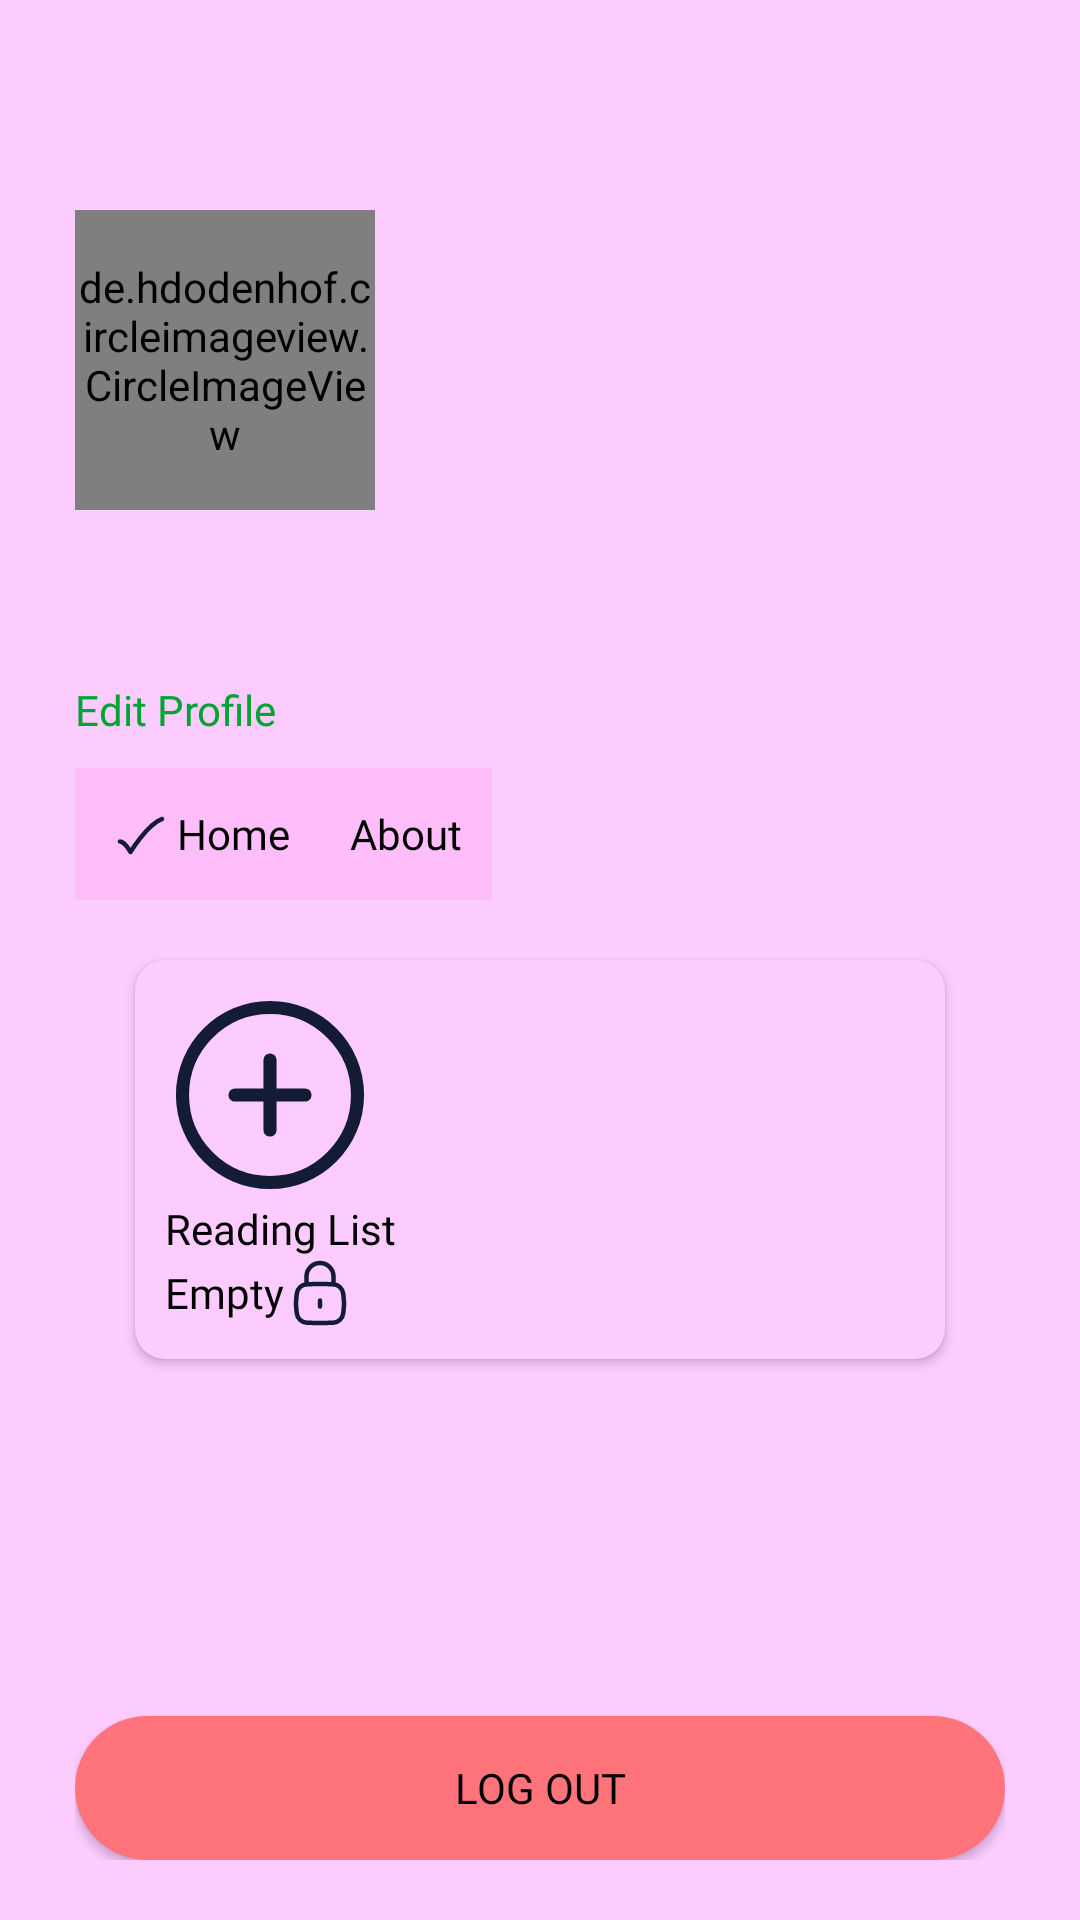

Screen size 1080x1920. Icon name, then its box in pixels as (x1, y1, x2, y2):
add: (176, 1001, 364, 1189)
